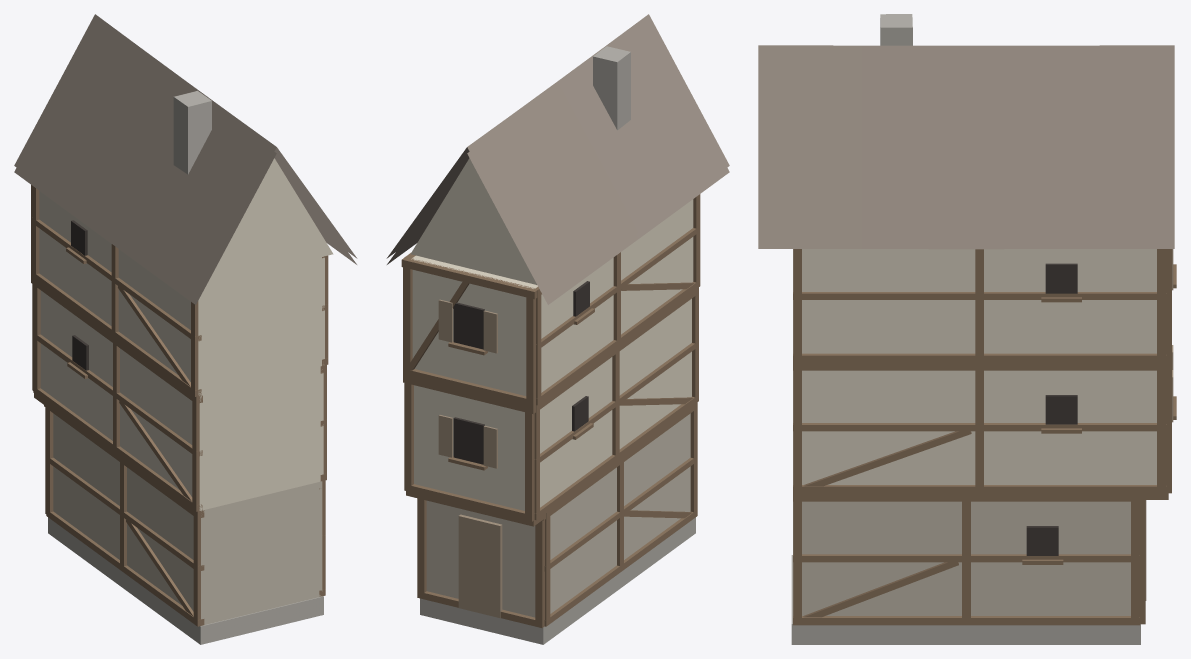
The model's file is house_narrow_a.glb.
3 views of the same model, side by side, from view 1: azimuth 30°, elevation 25°; view 2: azimuth 150°, elevation 25°; view 3: azimuth 270°, elevation 25° (orthographic). The views are drawn at different scales.
Parts seen in each view (by area): view 1: house_narrow_a; view 2: house_narrow_a; view 3: house_narrow_a.
Part boxes in pixels (x1,y1,x2,y2): house_narrow_a: (14,14,357,644); house_narrow_a: (386,14,729,644); house_narrow_a: (758,14,1176,644).
Size of the model in its own units: 3.68 by 10.93 by 7.18.
